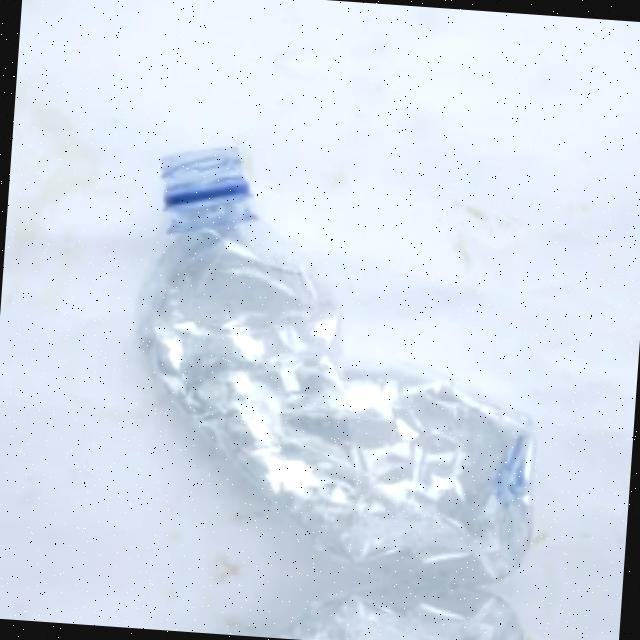Plastic: (88, 98, 594, 592), (83, 559, 561, 640), (126, 0, 601, 34)
